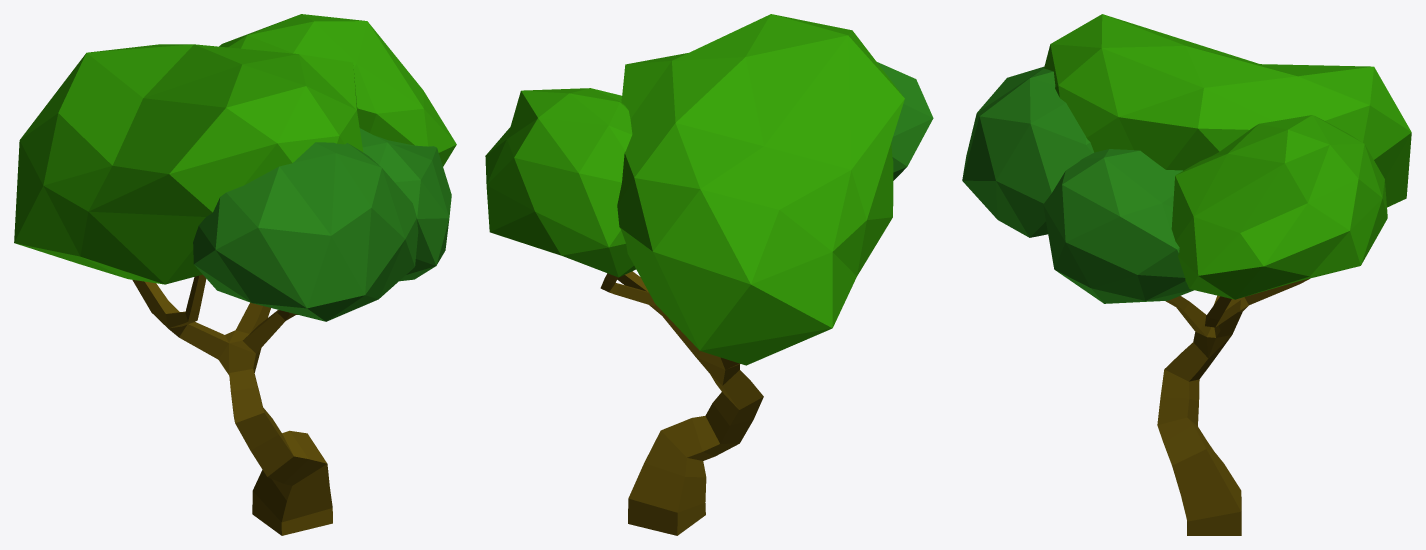
File: Tree0.fbx
3 views of the same model, side by side, from view 1: azimuth 30°, elevation 25°; view 2: azimuth 150°, elevation 25°; view 3: azimuth 270°, elevation 25° (orthographic). The views are drawn at different scales.
Visible parts, largest first — view 1: Cube; view 2: Cube; view 3: Cube.
Boxes of the visible parts, x1,y1,x2,y2 form: Cube: (14,14,456,535); Cube: (485,14,933,535); Cube: (962,14,1411,535).
Size of the model in its own units: 509 by 617 by 552.
